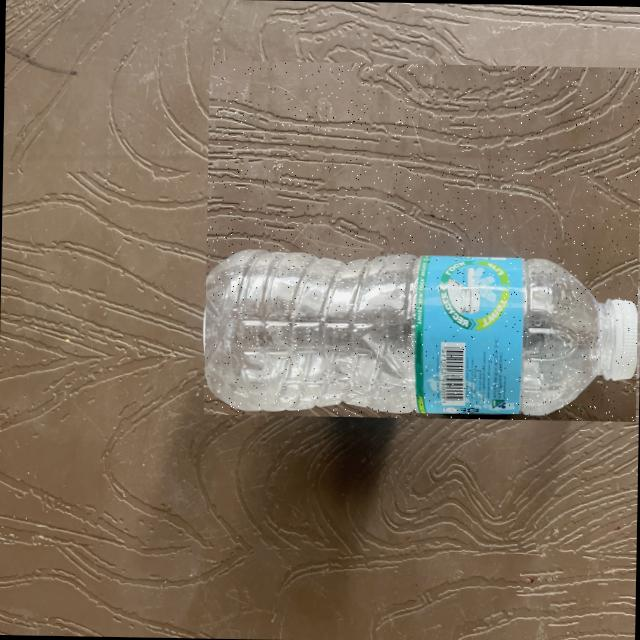REJECT: (203, 59, 640, 420)
